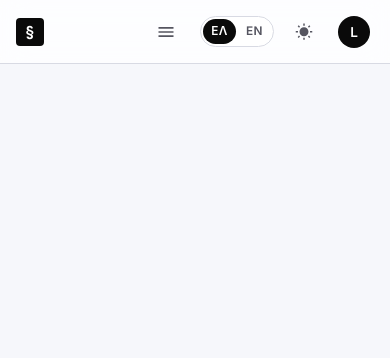
Test: MenuComponent (responsive + keyboard) › renders a real hamburger with aria-expanded and aria-controls
Click the button with class "nl-menu-hamburger": [166, 32] box x1=148 y1=14 x2=184 y2=50
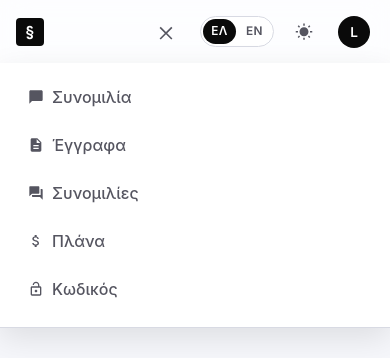
expect the button with class "nl-menu-hamburger" is expanded: met, box x1=148 y1=14 x2=184 y2=50
